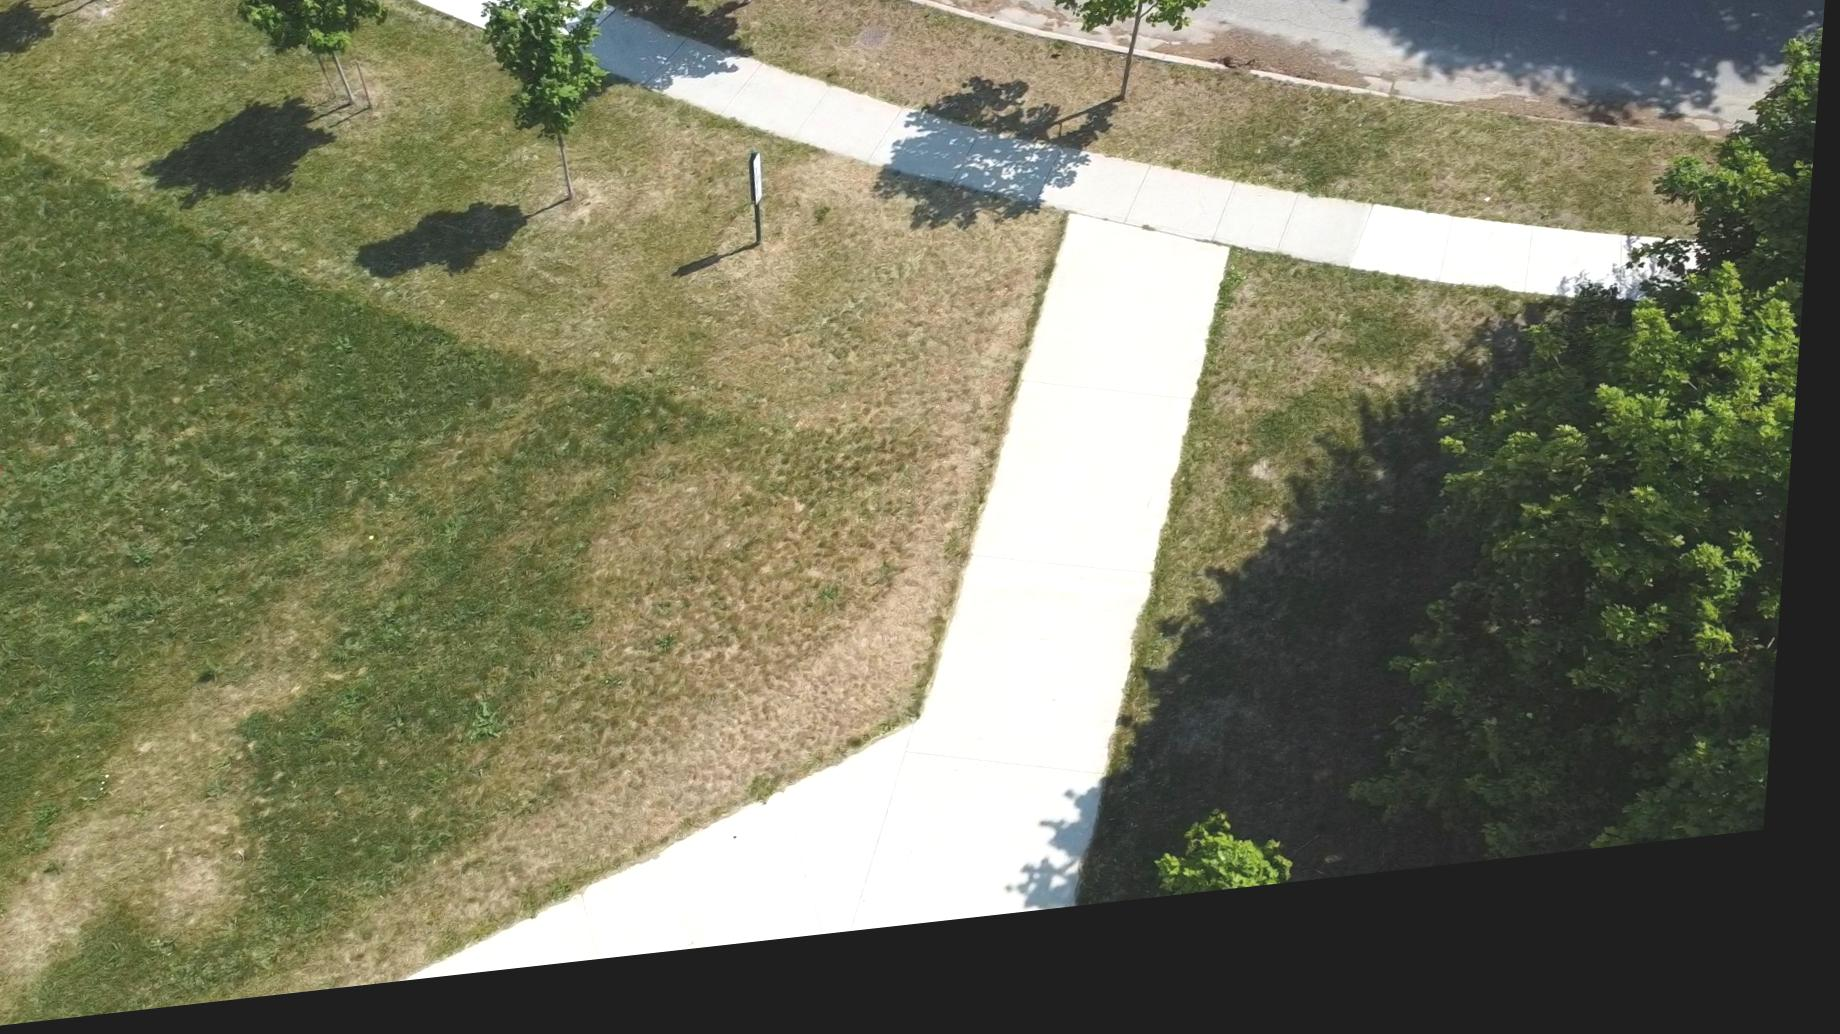Red: (0, 454, 9, 499)
